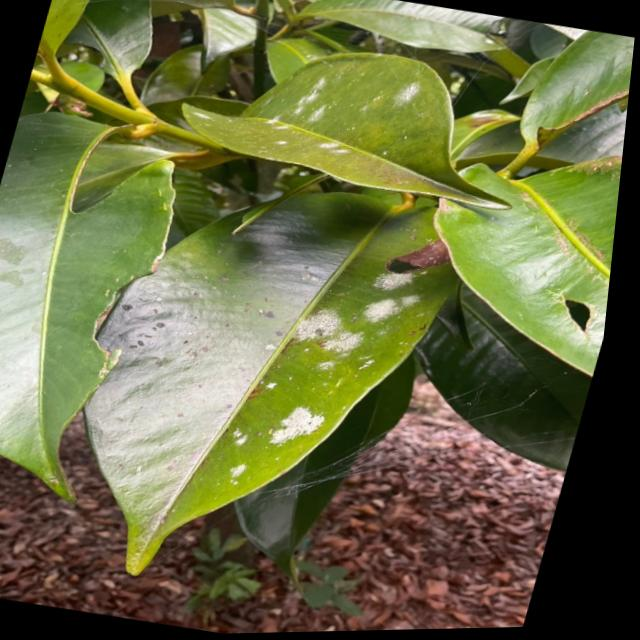Leaf Spot: (275, 63, 436, 188), (338, 260, 474, 344), (277, 302, 379, 411), (227, 397, 354, 467)
